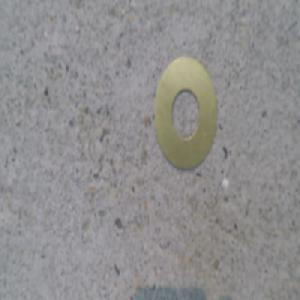Washer: (153, 53, 217, 171)
